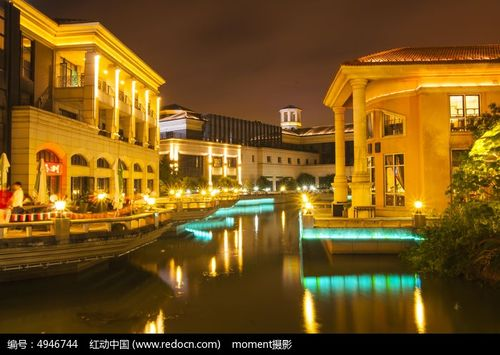buildings: (9, 12, 162, 250), (304, 54, 476, 230)
